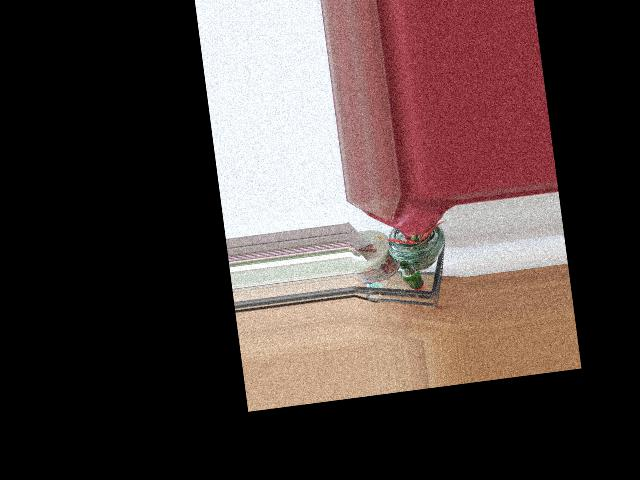beer: (399, 258, 425, 290)
